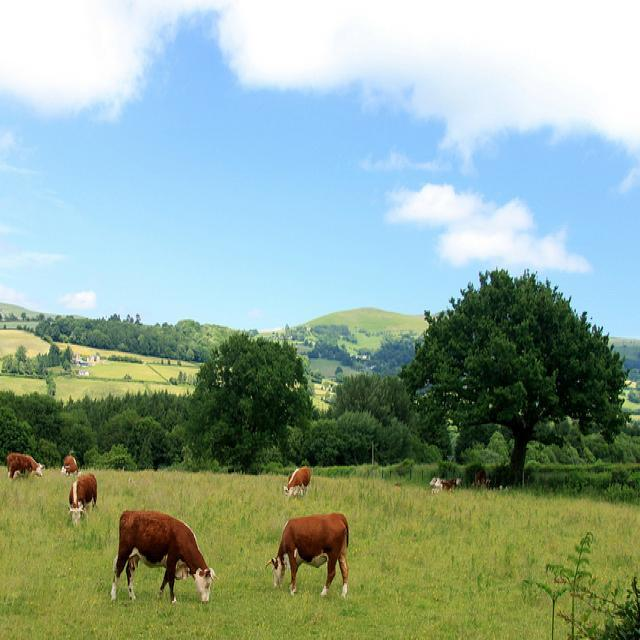cow: (109, 508, 215, 603), (264, 513, 348, 598), (68, 472, 97, 528), (281, 465, 311, 501), (5, 451, 43, 477), (428, 475, 456, 492), (60, 451, 77, 474), (473, 466, 484, 481), (491, 483, 502, 489), (393, 480, 400, 486)
